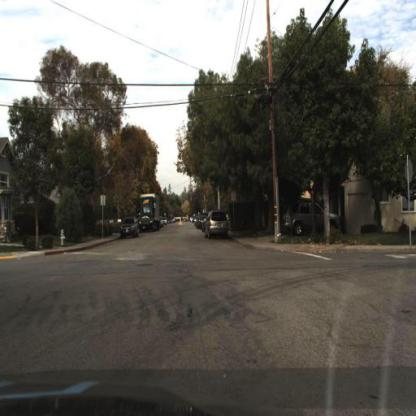car: (279, 198, 345, 240), (205, 209, 232, 237), (204, 210, 229, 240), (119, 217, 139, 240), (121, 216, 139, 241)
truck: (137, 193, 162, 231)
